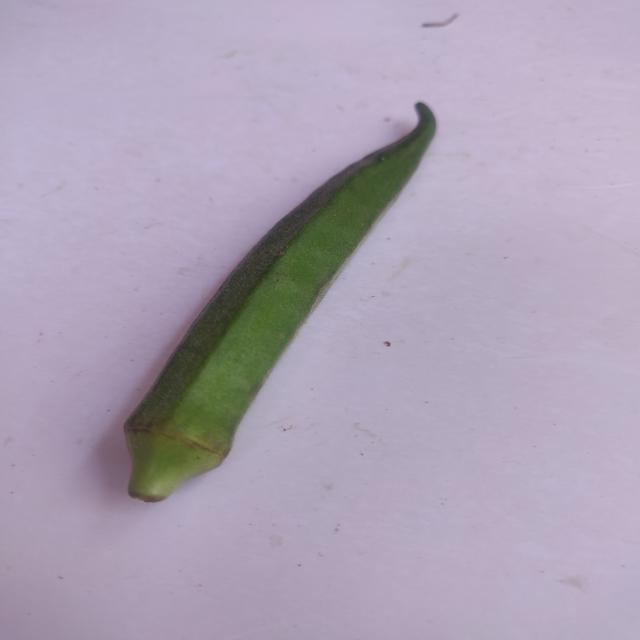Ladies Finger: (97, 85, 454, 522)
